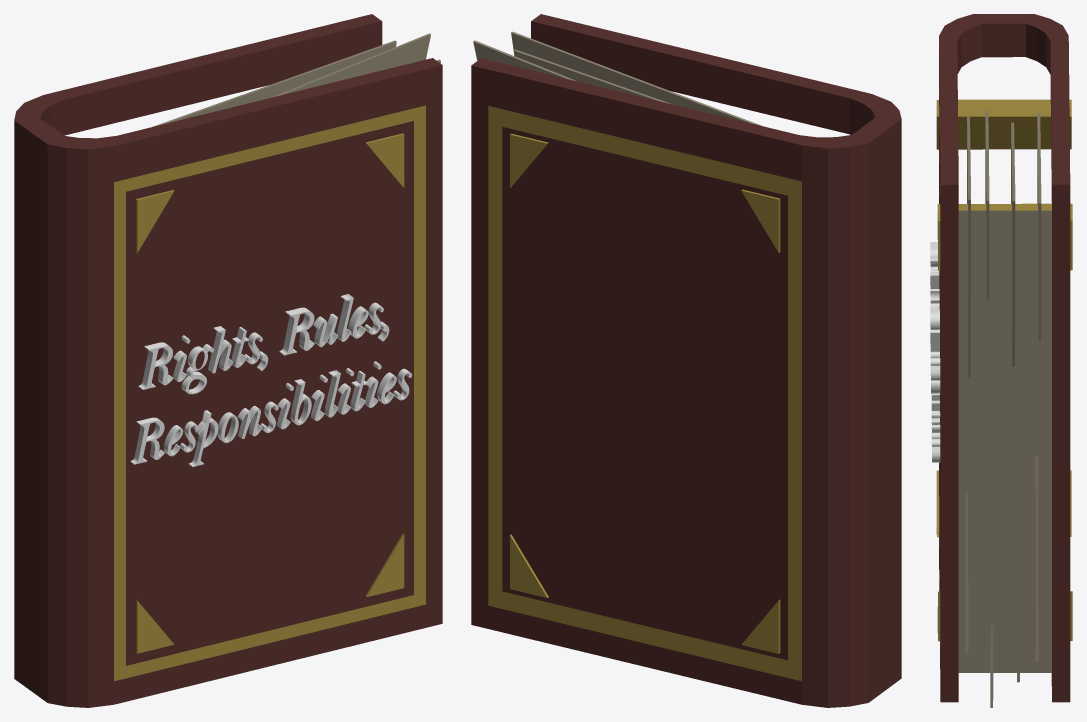
Rendered from rights_rules_responsibilities.glb.
3 views of the same model, side by side, from view 1: azimuth 30°, elevation 25°; view 2: azimuth 150°, elevation 25°; view 3: azimuth 270°, elevation 25° (orthographic). The views are drawn at different scales.
Parts seen in each view (by area): view 1: Book2_Closed, Text; view 2: Book2_Closed; view 3: Book2_Closed, Text.
Part boxes in pixels (left/top/right/bottom): Book2_Closed: left=14, top=14, right=442, bottom=707; Text: left=130, top=294, right=412, bottom=466; Book2_Closed: left=471, top=14, right=901, bottom=707; Book2_Closed: left=936, top=14, right=1072, bottom=707; Text: left=930, top=242, right=940, bottom=462.
Size of the model in its own units: 1.58 by 2.11 by 0.5193.
